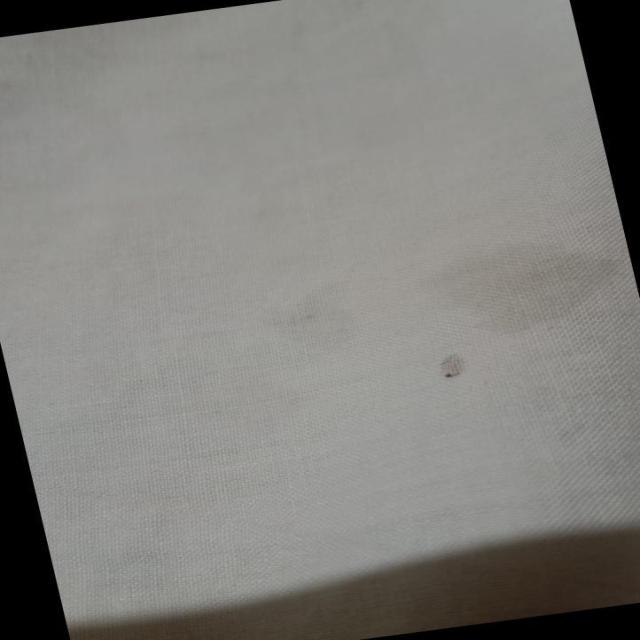stain: (418, 226, 638, 348), (260, 283, 382, 355), (423, 338, 487, 399)
